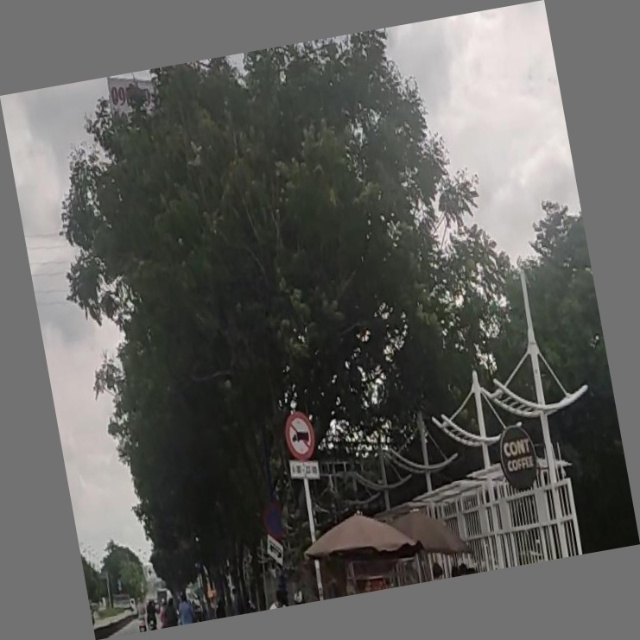B.8a: (284, 411, 324, 482)
